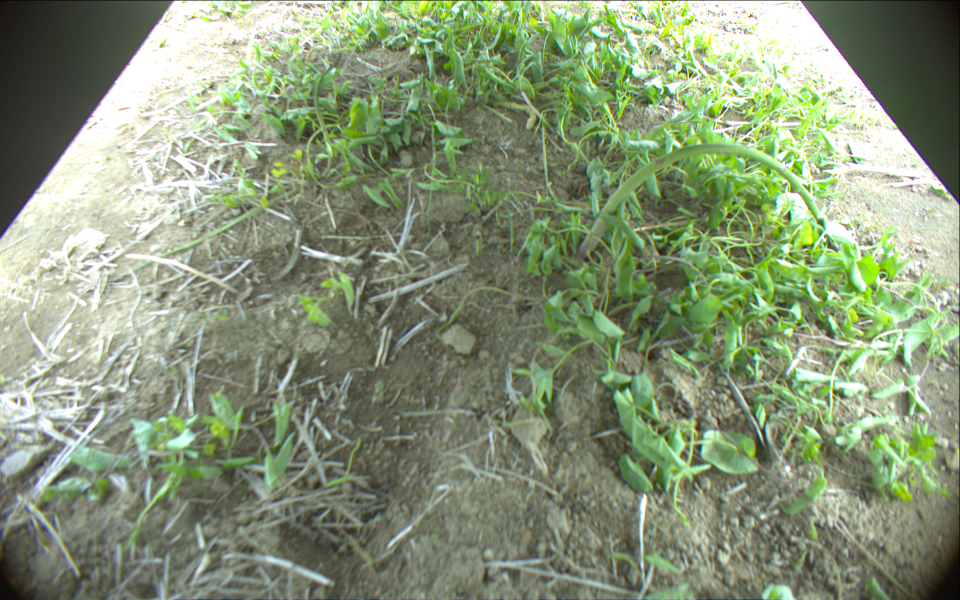aspa: (578, 142, 828, 259), (89, 183, 304, 292), (312, 51, 344, 172)
